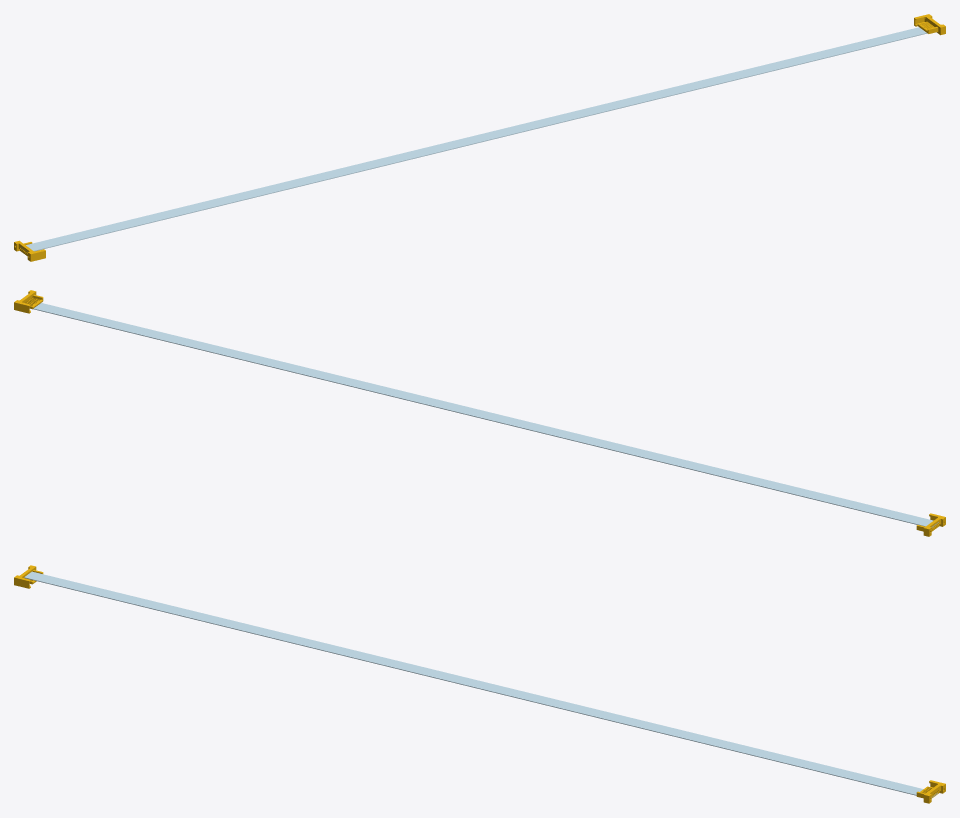
File: SATA cable.glb
The picture shows the model from 3 angles, top to bottom: view 1: azimuth 30°, elevation 25°; view 2: azimuth 150°, elevation 25°; view 3: azimuth 330°, elevation 25°; orthographic projection.
Visible parts, largest first — view 1: Part 1; view 2: Part 1; view 3: Part 1.
Boxes of the visible parts, box(x1,y1,x2,y2) form: Part 1: box(21, 27, 927, 251); Part 1: box(33, 303, 938, 527); Part 1: box(24, 571, 937, 797).
Size of the model in its own units: 0.5031 by 0.00621 by 0.0165.
